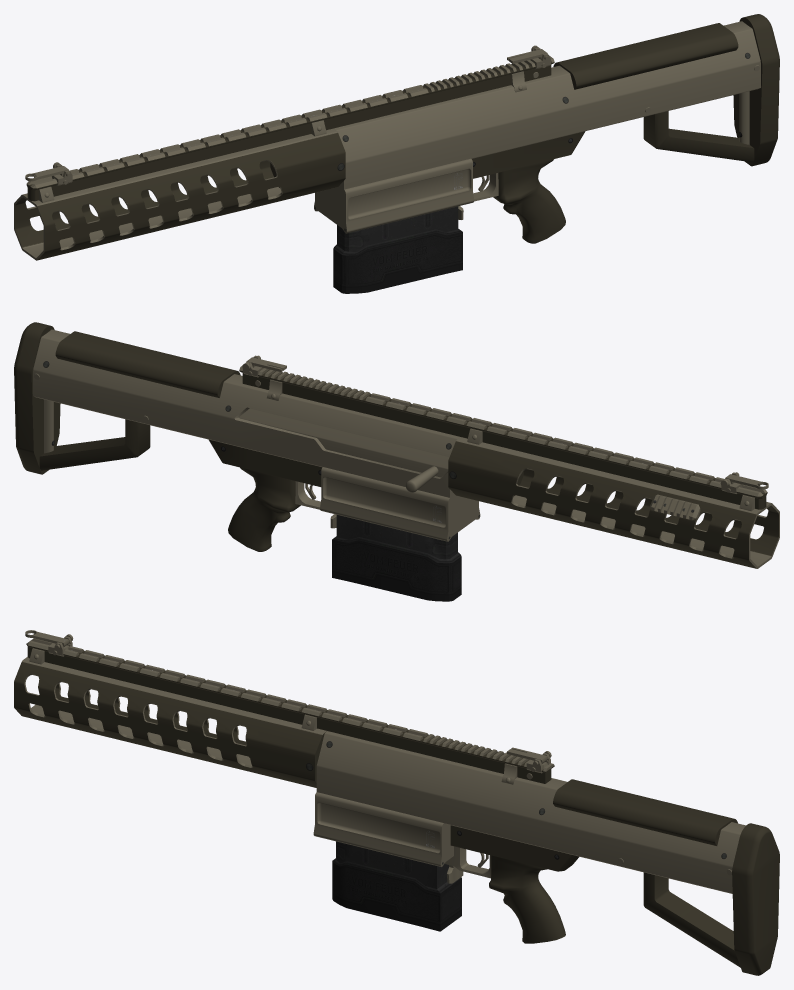
Rendered from weapon_heavysniper_mk2.glb.
The picture shows the model from 3 angles, top to bottom: view 1: azimuth 30°, elevation 25°; view 2: azimuth 150°, elevation 25°; view 3: azimuth 330°, elevation 25°; orthographic projection.
Visible parts, largest first — view 1: main_frame_heavysniper_mk2, rail_heavysniper_mk2, magazine_heavysniper_mk2, grip_heavysniper_mk2, handguard_heavysniper_mk2, front_sight_heavysniper_mk2, rear_sight_heavysniper_mk2; view 2: main_frame_heavysniper_mk2, rail_heavysniper_mk2, magazine_heavysniper_mk2, grip_heavysniper_mk2, handguard_heavysniper_mk2, front_sight_heavysniper_mk2, rear_sight_heavysniper_mk2; view 3: main_frame_heavysniper_mk2, rail_heavysniper_mk2, magazine_heavysniper_mk2, grip_heavysniper_mk2, handguard_heavysniper_mk2, front_sight_heavysniper_mk2.
Boxes of the visible parts, left/top/right/bottom form: main_frame_heavysniper_mk2: left=314, top=14, right=779, bottom=233; rail_heavysniper_mk2: left=14, top=55, right=554, bottom=260; magazine_heavysniper_mk2: left=333, top=206, right=462, bottom=293; grip_heavysniper_mk2: left=472, top=131, right=585, bottom=243; handguard_heavysniper_mk2: left=553, top=23, right=738, bottom=89; front_sight_heavysniper_mk2: left=25, top=162, right=72, bottom=185; rear_sight_heavysniper_mk2: left=507, top=45, right=550, bottom=68; main_frame_heavysniper_mk2: left=14, top=322, right=480, bottom=541; rail_heavysniper_mk2: left=239, top=365, right=779, bottom=568; magazine_heavysniper_mk2: left=332, top=515, right=461, bottom=601; grip_heavysniper_mk2: left=209, top=439, right=322, bottom=551; handguard_heavysniper_mk2: left=55, top=331, right=240, bottom=397; front_sight_heavysniper_mk2: left=720, top=472, right=768, bottom=493; rear_sight_heavysniper_mk2: left=242, top=355, right=286, bottom=377; main_frame_heavysniper_mk2: left=313, top=731, right=779, bottom=975; rail_heavysniper_mk2: left=14, top=638, right=554, bottom=787; magazine_heavysniper_mk2: left=332, top=841, right=461, bottom=931; grip_heavysniper_mk2: left=450, top=825, right=579, bottom=943; handguard_heavysniper_mk2: left=553, top=779, right=737, bottom=845; front_sight_heavysniper_mk2: left=25, top=630, right=73, bottom=656.
Size of the model in its own units: 124 by 30.27 by 15.04.
Materials: 3 (3 with a texture image).
